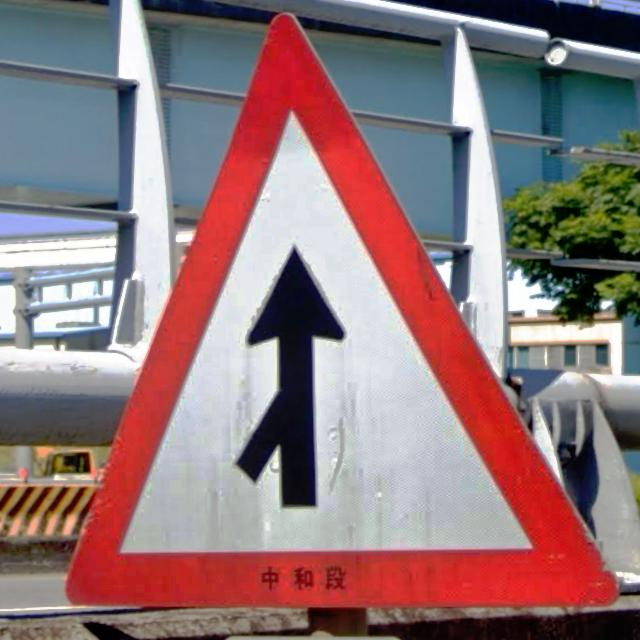leftmerge: (64, 14, 621, 612)
